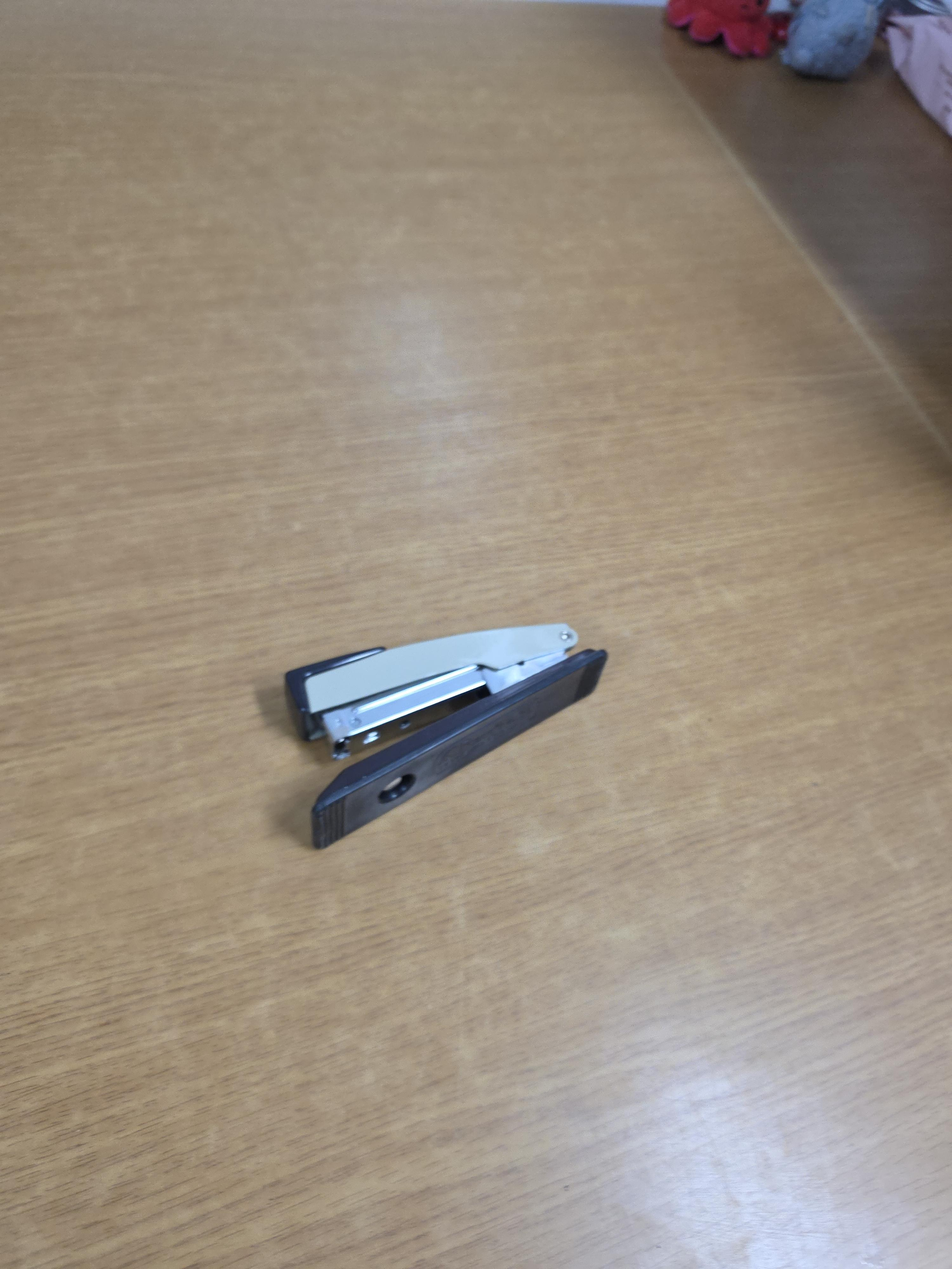stapler: (281, 623, 610, 851)
